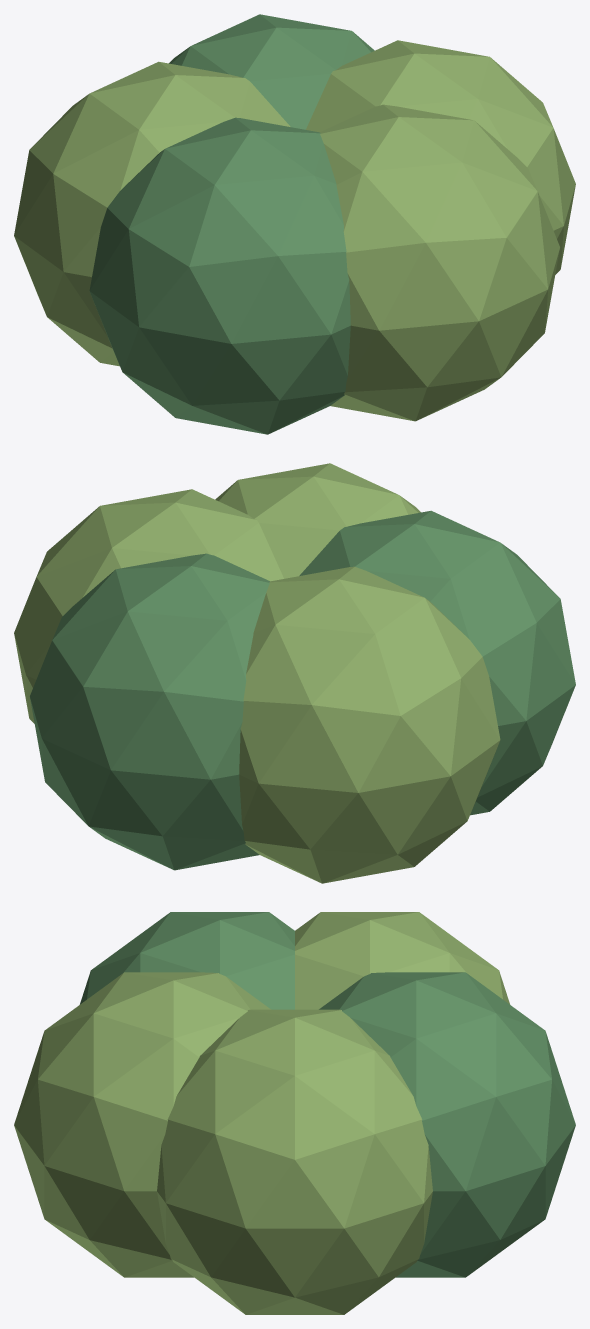
File: bush.glb
3 views of the same model, one above another, from view 1: azimuth 30°, elevation 25°; view 2: azimuth 150°, elevation 25°; view 3: azimuth 270°, elevation 25° (orthographic).
Parts seen in each view (by area): view 1: bush; view 2: bush; view 3: bush.
Boxes of the visible parts, x1,y1,x2,y2 form: bush: (14, 14, 575, 434); bush: (14, 463, 575, 883); bush: (14, 912, 575, 1314).
Bounding box in the file's own units: 1.02 × 0.6 × 1.06.
